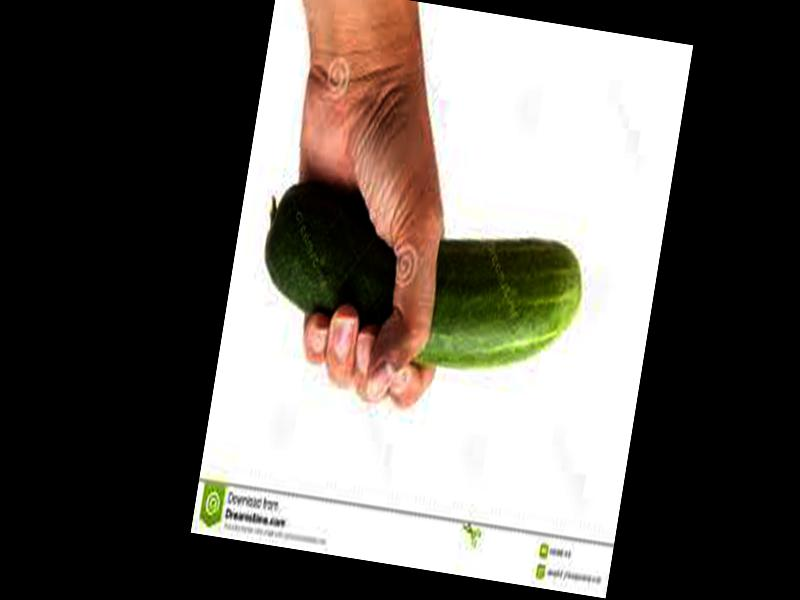Cucumber: (253, 179, 592, 389)
